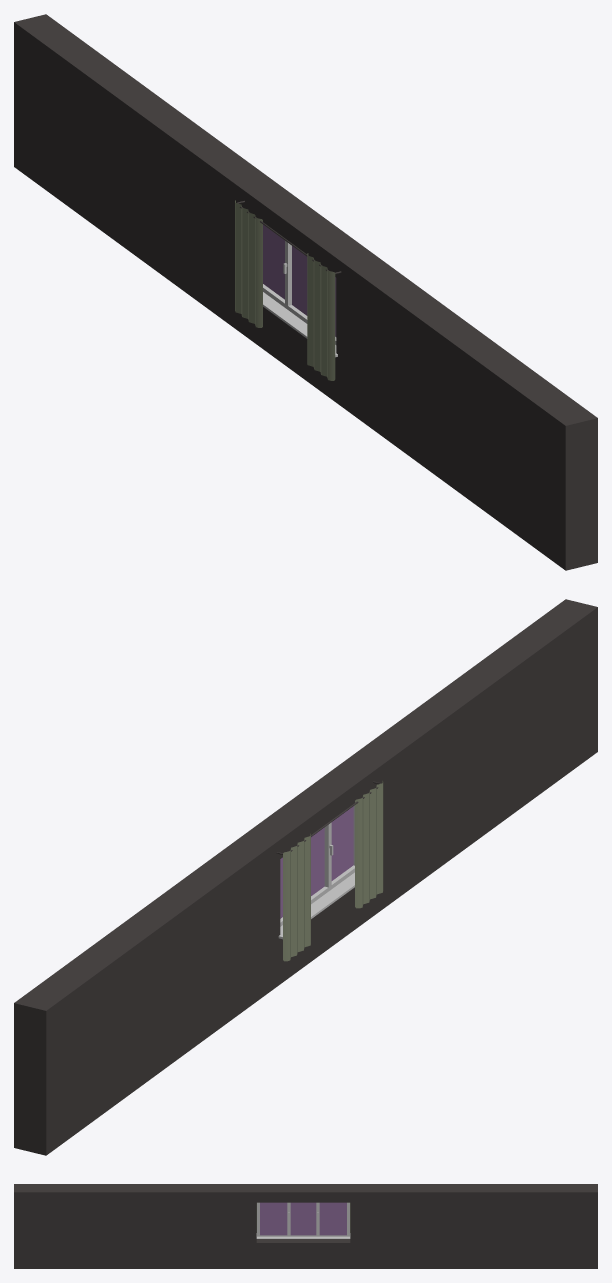
The model's file is window_Wall.fbx.
3 views of the same model, one above another, from view 1: azimuth 30°, elevation 25°; view 2: azimuth 150°, elevation 25°; view 3: azimuth 270°, elevation 25° (orthographic). The views are drawn at different scales.
Visible parts, largest first — view 1: Cube, Curtains_Double, Cube.001, Cube.002; view 2: Cube, Curtains_Double, Cube.001, Cube.002; view 3: Cube, Cube.001, Cube.002.
Boxes of the visible parts, left/top/right/bottom form: Cube: left=14, top=14, right=597, bottom=570; Curtains_Double: left=235, top=200, right=341, bottom=380; Cube.001: left=263, top=225, right=336, bottom=344; Cube.002: left=263, top=292, right=337, bottom=357; Cube: left=14, top=599, right=597, bottom=1155; Curtains_Double: left=276, top=780, right=383, bottom=961; Cube.001: left=280, top=805, right=354, bottom=926; Cube.002: left=278, top=872, right=354, bottom=939; Cube: left=14, top=1184, right=597, bottom=1268; Cube.001: left=257, top=1202, right=349, bottom=1236; Cube.002: left=256, top=1233, right=350, bottom=1238.
Bounding box in the file's own units: 69.5 × 221 × 1525.
